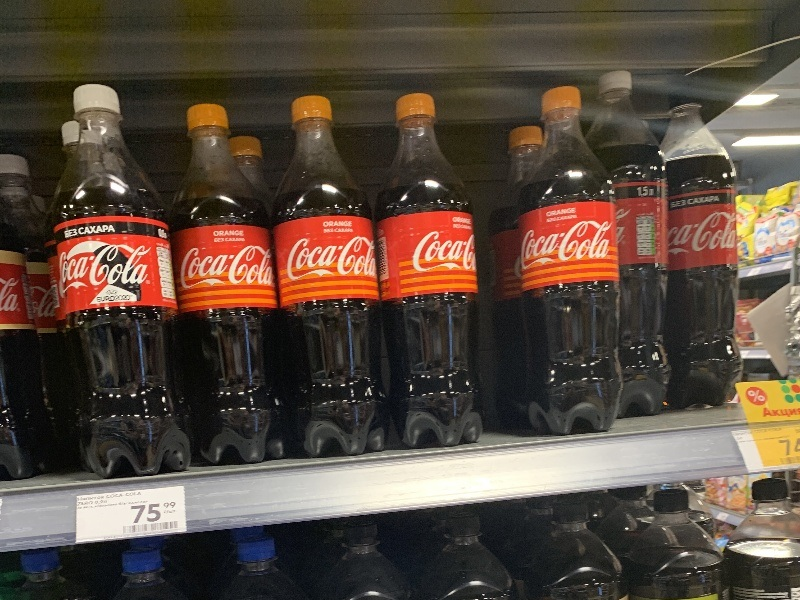lemonade: (38, 79, 199, 484), (256, 92, 402, 464), (151, 99, 294, 470), (367, 89, 494, 453), (511, 87, 630, 446)
